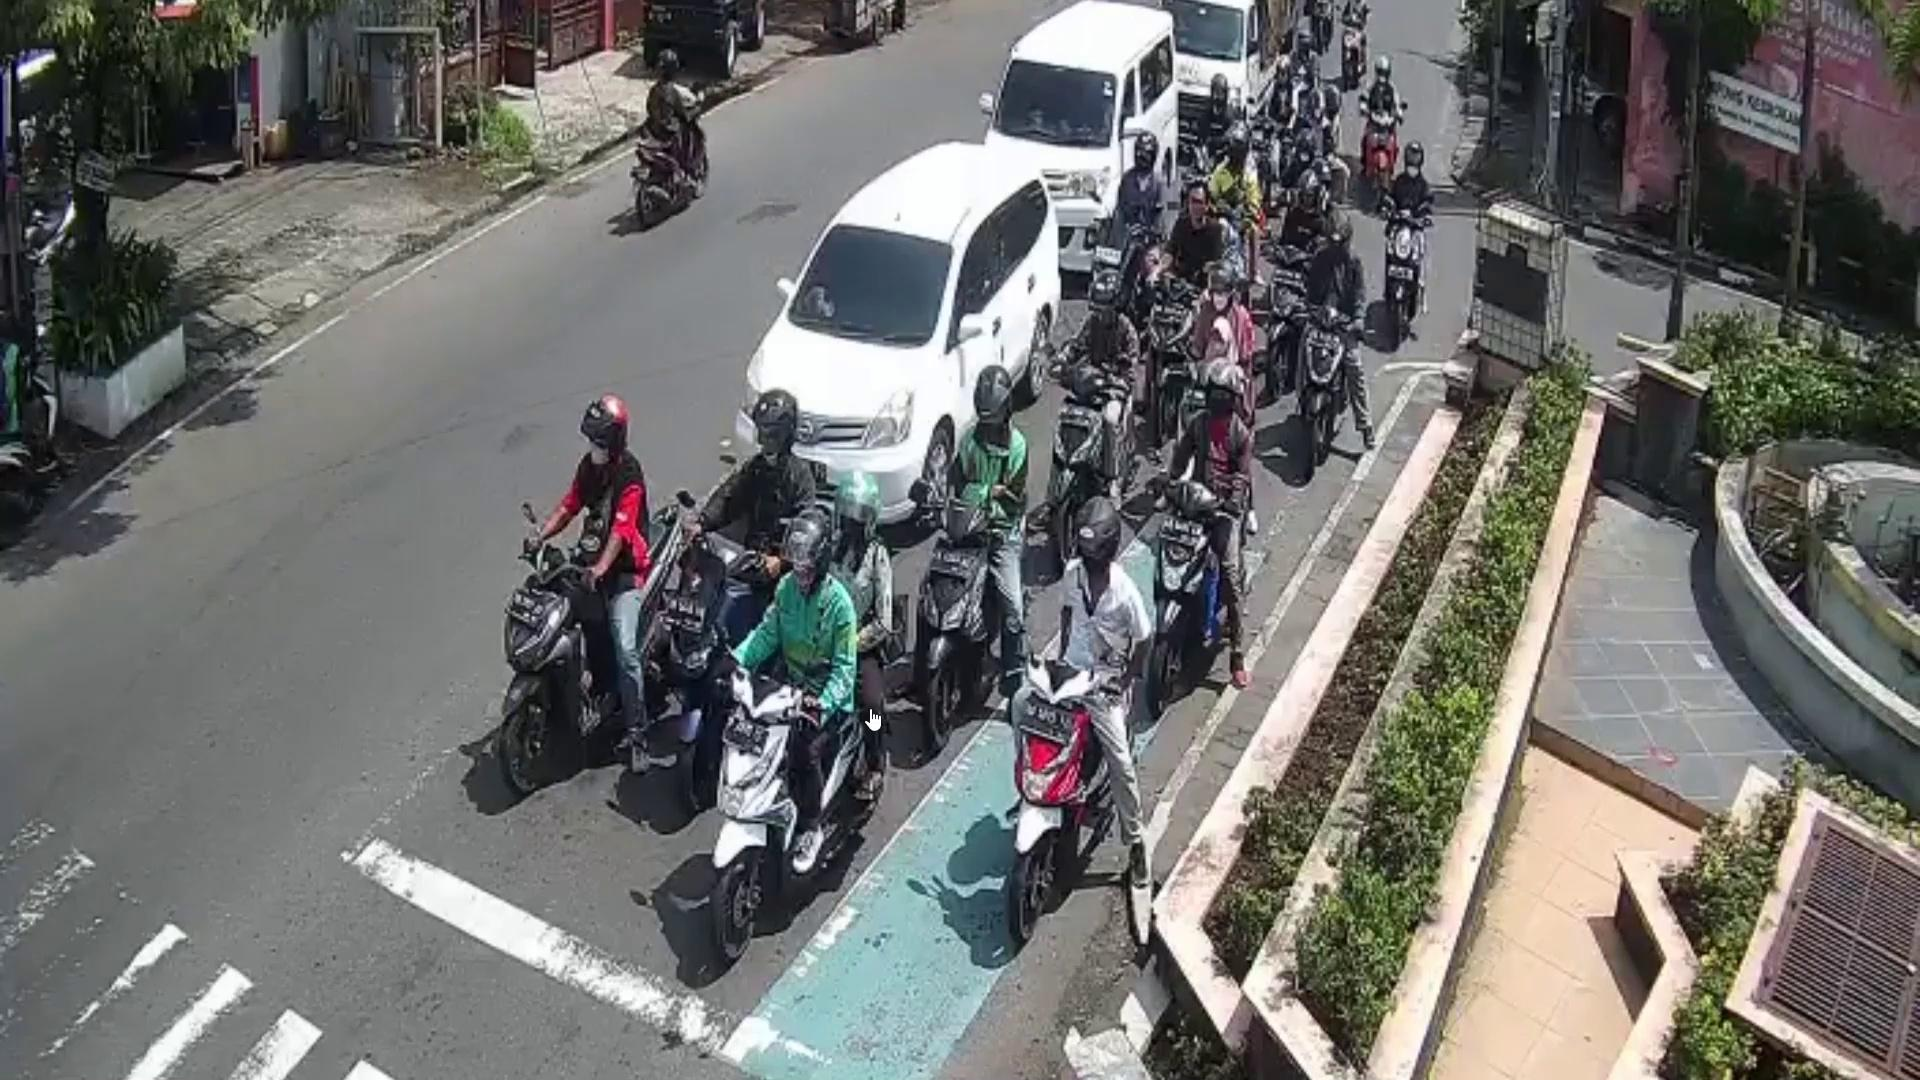car: (728, 137, 1062, 538), (989, 0, 1180, 273), (1163, 0, 1280, 120)
motorbike: (489, 501, 702, 800), (711, 669, 870, 959), (1013, 653, 1116, 936), (914, 501, 998, 753), (1149, 491, 1236, 724), (1056, 360, 1131, 513), (633, 88, 708, 229), (1303, 310, 1358, 465), (1382, 208, 1425, 345), (1366, 108, 1399, 189)
